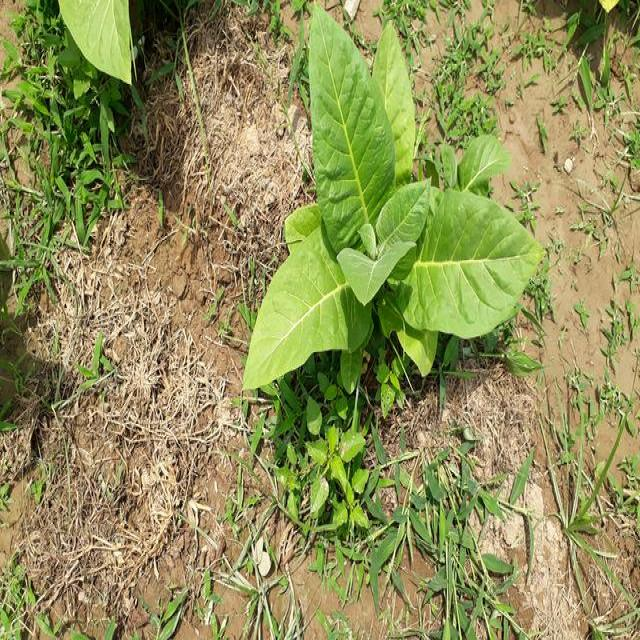crop: (242, 3, 548, 396)
